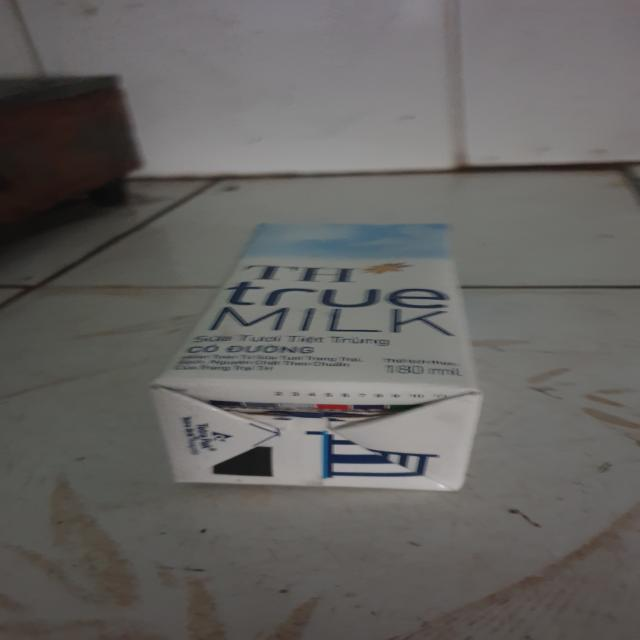TH: (140, 217, 494, 500)
